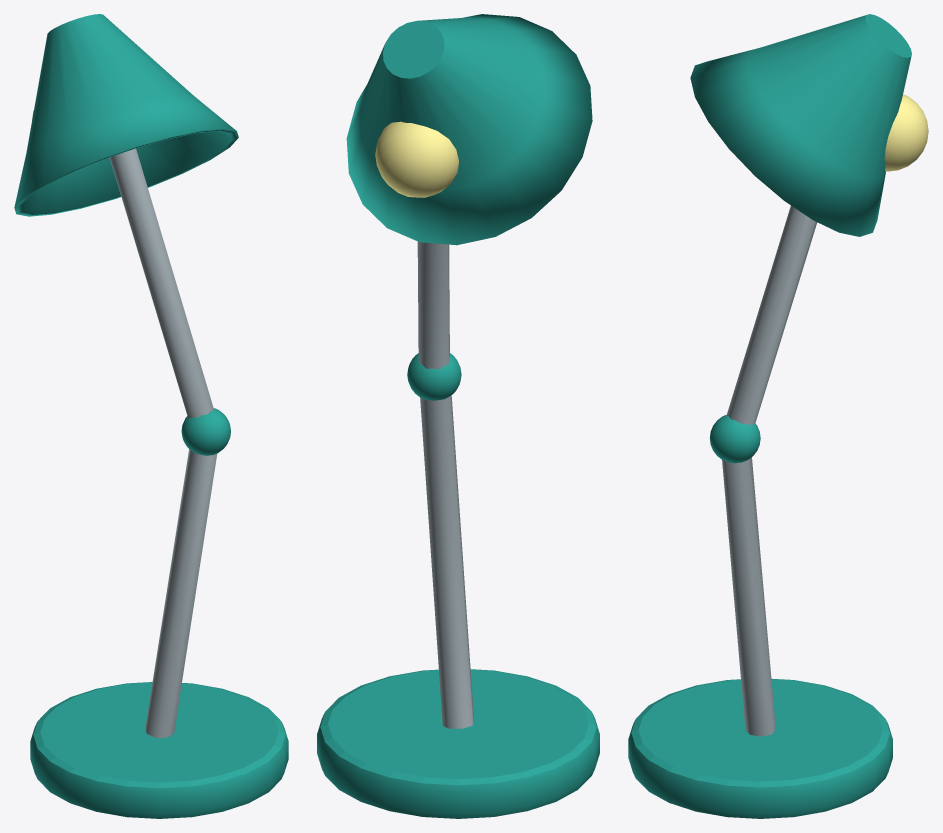
The model's file is desk_lamp.fbx.
The picture shows the model from 3 angles, left to right: view 1: azimuth 30°, elevation 25°; view 2: azimuth 150°, elevation 25°; view 3: azimuth 270°, elevation 25°; orthographic projection. The views are drawn at different scales.
Visible parts, largest first — view 1: Desk Lamp; view 2: Desk Lamp; view 3: Desk Lamp.
Boxes of the visible parts, bbox=[...] form: Desk Lamp: bbox=[14, 14, 288, 818]; Desk Lamp: bbox=[317, 14, 599, 818]; Desk Lamp: bbox=[628, 14, 928, 818].
Bounding box in the file's own units: 0.55 × 1.6 × 0.59.
